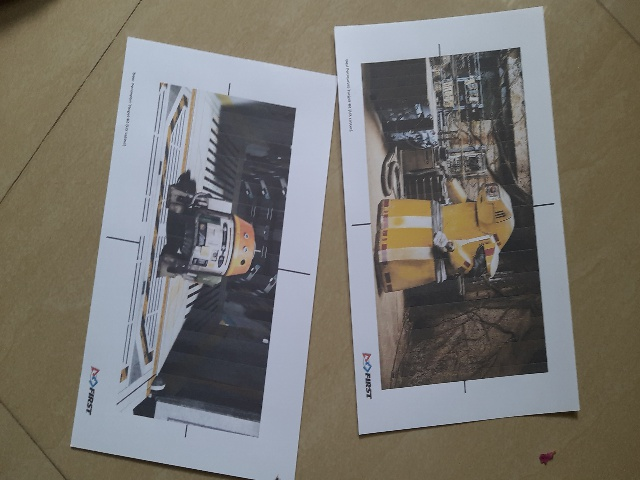rept2: (87, 39, 304, 477)
rpt2: (346, 39, 578, 408)
